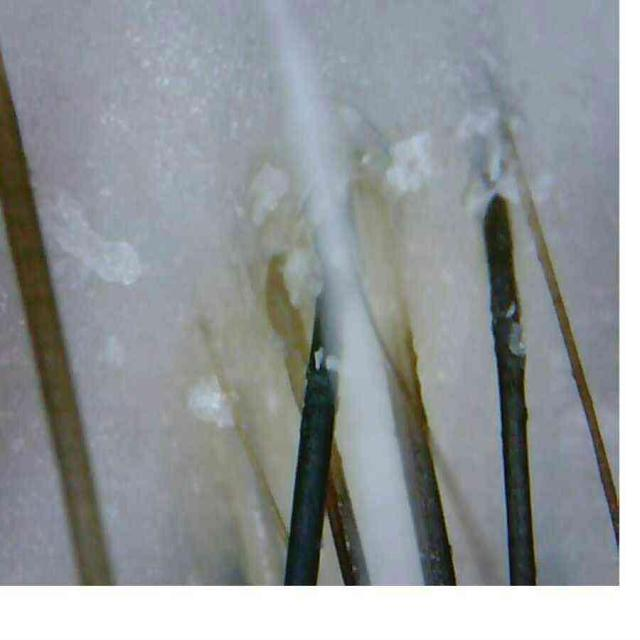d: (386, 132, 431, 195), (282, 246, 322, 308), (189, 376, 234, 429)
